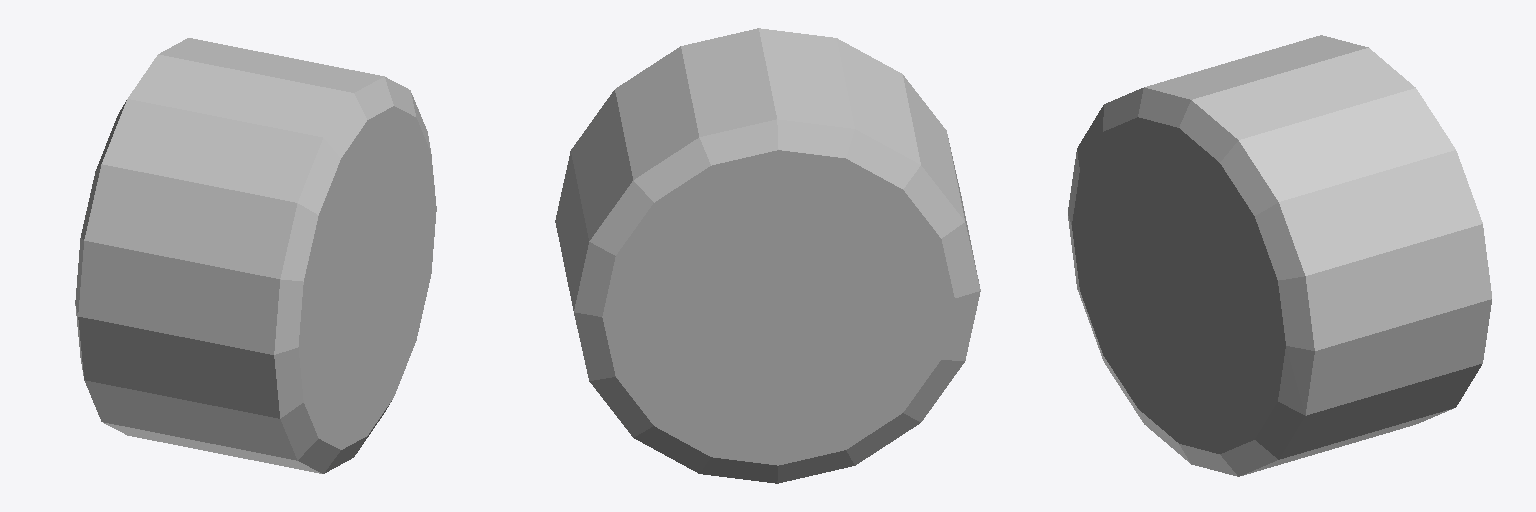
3 renders of one model, left to right at view 1: azimuth 30°, elevation 25°; view 2: azimuth 150°, elevation 25°; view 3: azimuth 270°, elevation 25°, orthographic.
Visible parts, largest first — view 1: part8:wheel 4; view 2: part8:wheel 4; view 3: part8:wheel 4.
Boxes of the visible parts, x1=… form: part8:wheel 4: x1=75, y1=38, x2=436, y2=473; part8:wheel 4: x1=555, y1=28, x2=980, y2=483; part8:wheel 4: x1=1068, y1=35, x2=1491, y2=476.
Bounding box in the file's own units: 0.0561 × 0.05 × 0.0528.